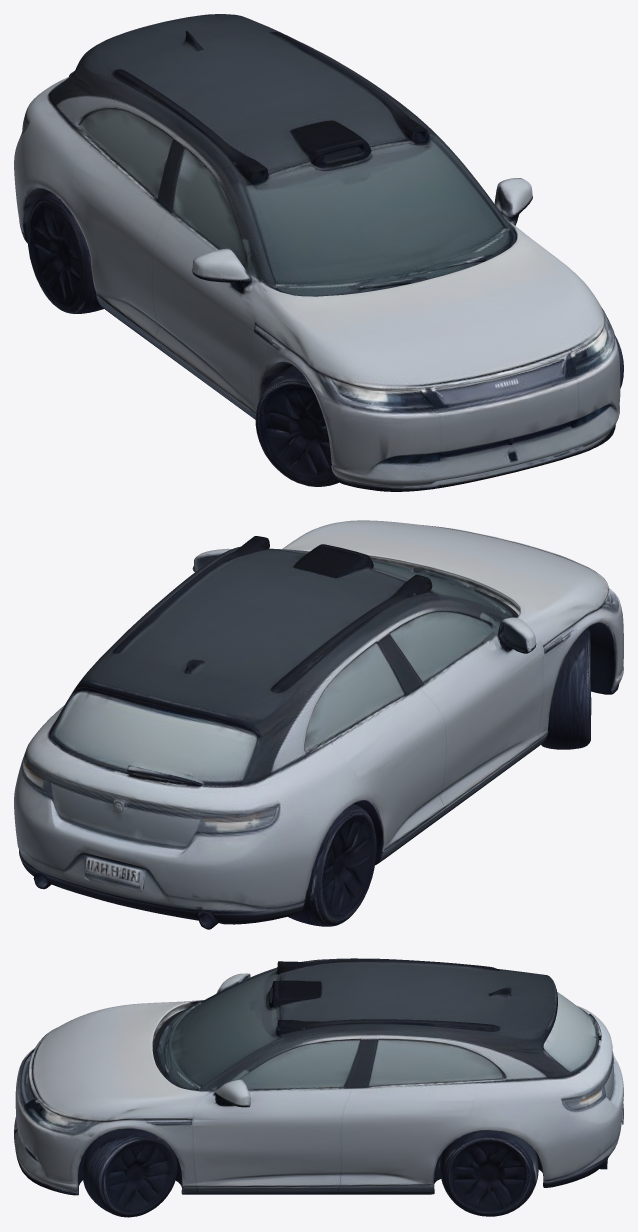
The model's file is afeela.glb.
3 views of the same model, one above another, from view 1: azimuth 30°, elevation 25°; view 2: azimuth 150°, elevation 25°; view 3: azimuth 270°, elevation 25° (orthographic). The views are drawn at different scales.
Visible parts, largest first — view 1: node_0; view 2: node_0; view 3: node_0.
Part boxes in pixels (box(x1,y1,x2,y2)): node_0: box(14, 14, 623, 491); node_0: box(14, 520, 623, 929); node_0: box(14, 958, 623, 1217).
Bounding box in the file's own units: 0.5622 × 0.3788 × 1.17.
Materials: 1 (1 with a texture image).
